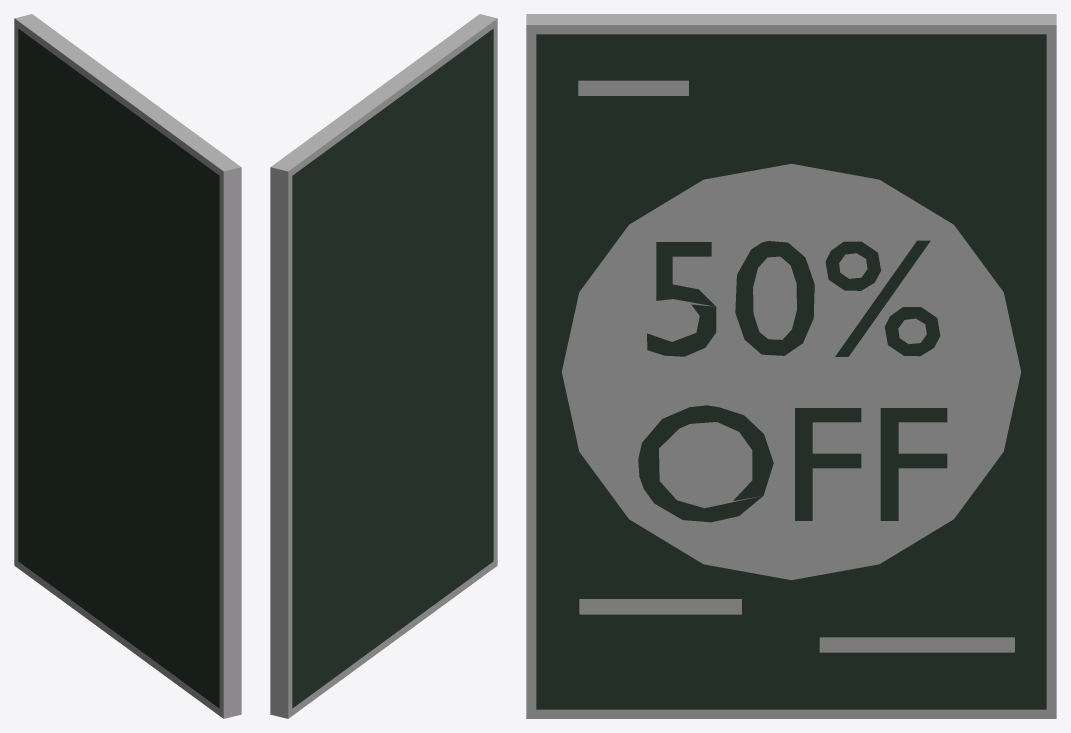
The model's file is SM_shopPoster_03.glb.
The picture shows the model from 3 angles, left to right: view 1: azimuth 30°, elevation 25°; view 2: azimuth 150°, elevation 25°; view 3: azimuth 270°, elevation 25°; orthographic projection. The views are drawn at different scales.
Parts seen in each view (by area): view 1: SM_shopPoster_03; view 2: SM_shopPoster_03; view 3: SM_shopPoster_03.
Boxes of the visible parts, x1,y1,x2,y2 form: SM_shopPoster_03: (14, 14, 241, 718); SM_shopPoster_03: (270, 14, 497, 718); SM_shopPoster_03: (526, 14, 1056, 718).
Bounding box in the file's own units: 0.0349 × 0.9591 × 0.6647.
Materials: 1 (1 with a texture image).
